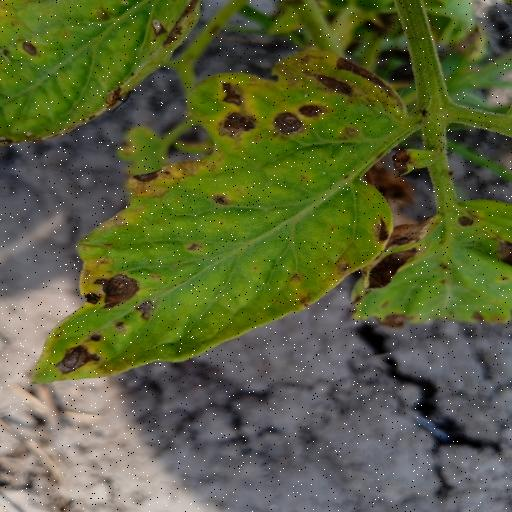Tomato_Brown_Spots: (19, 47, 434, 391)
